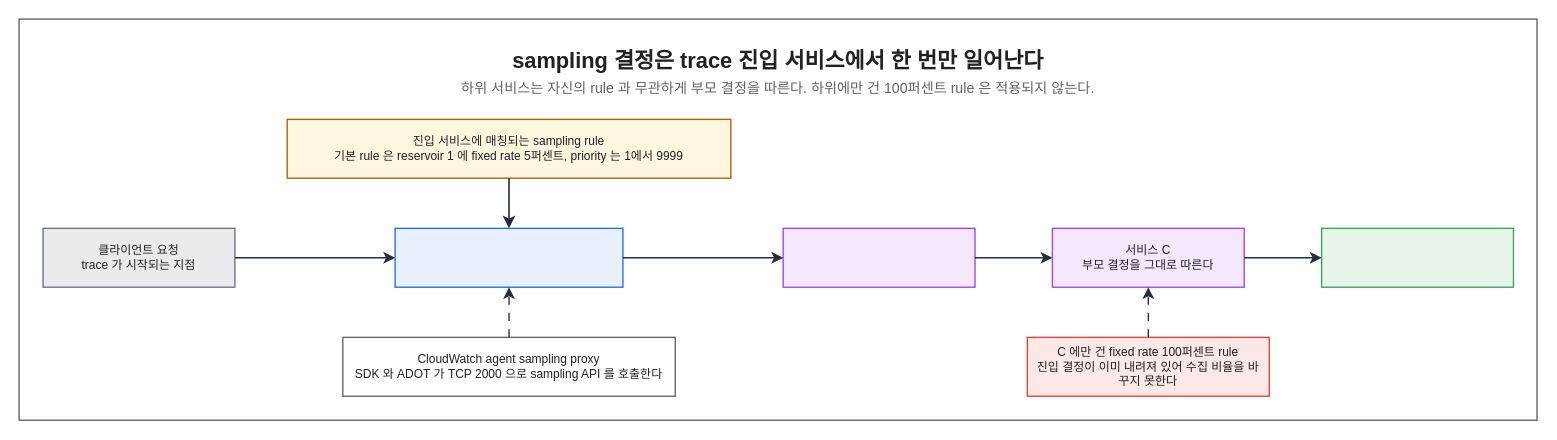
Some shapes in this 1557 by 440 pixel diagram are drawn without their labels. Each missing label, with the box of its shape:
서비스 A (진입) 여기서 sampled 여부가 결정되고 하위로 전파된다: (394, 227, 623, 287)
서비스 B 부모 결정을 그대로 따른다: (782, 227, 975, 287)
수집된 trace 진입 rule 이 정한 비율만큼만 남는다: (1320, 227, 1514, 287)
